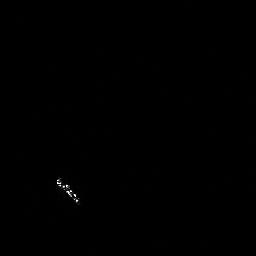ship: (52, 173, 82, 208)
